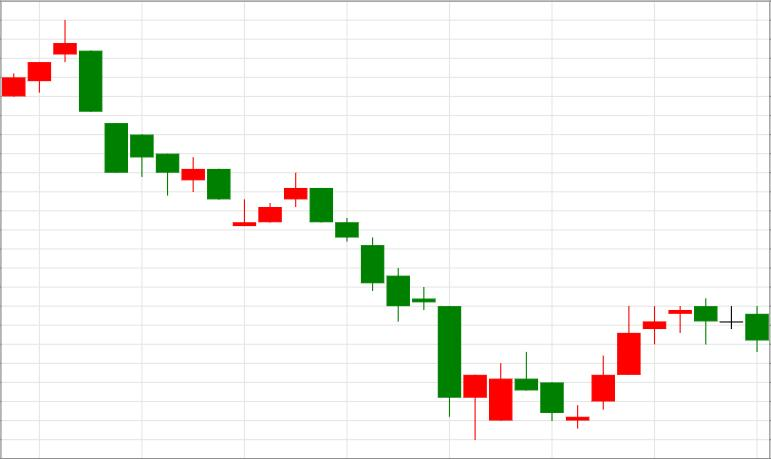hammer_rise: (309, 188, 487, 441)
morning_star_rise: (309, 188, 614, 441)
